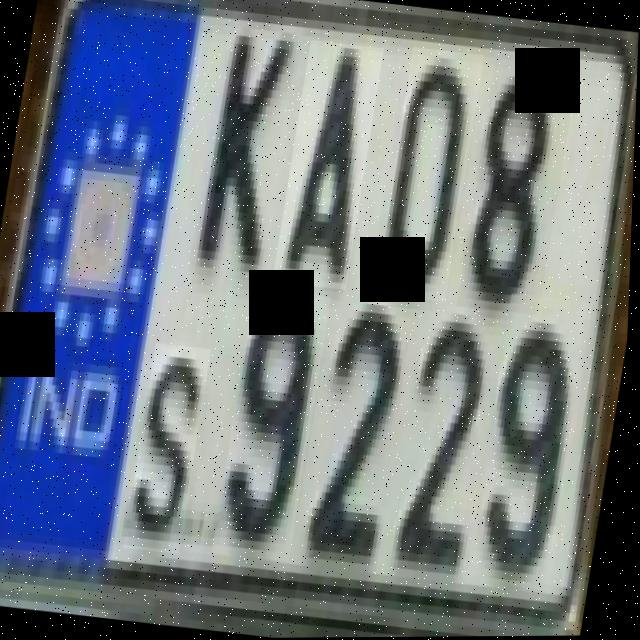0: (380, 52, 481, 302)
8: (462, 54, 567, 313)
9: (484, 297, 591, 588), (217, 291, 326, 561)
A: (274, 44, 374, 290)
K: (188, 25, 301, 283)
S: (127, 343, 214, 554)
